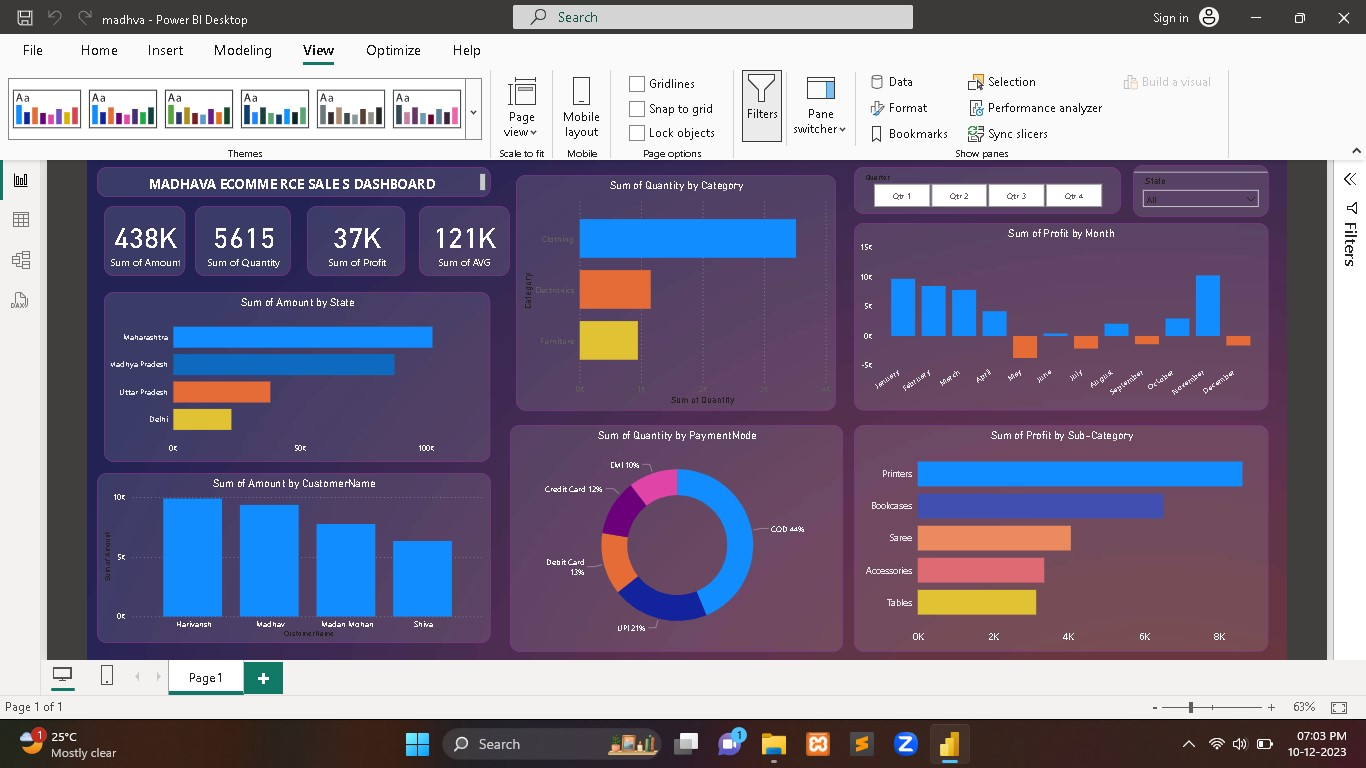

The page's visual inventory and layout, read from the dashboard file:
{"tool":"powerbi","page":{"name":"Page 1","canvas":[2047,800],"ordinal":0},"visuals":[{"type":"textbox","box":[80,11.7,630,48.3],"z":0},{"type":"columnChart","fields":{"Category":["Orders.Order Date.Variation.Date Hierarchy.Month"],"Y":["Details.Profit"]},"box":[1291.7,100,663.3,300],"z":1000},{"type":"barChart","fields":{"Category":["Details.Sub-Category"],"Y":["Details.Profit"]},"box":[1291.7,423.3,663.3,363.3],"z":2000},{"type":"clusteredBarChart","fields":{"Category":["Details.Category"],"Y":["Details.Quantity"]},"box":[750,23.3,511.7,376.7],"z":3000},{"type":"donutChart","fields":{"Category":["Details.PaymentMode"],"Y":["Details.Quantity"]},"box":[740,423.3,533.3,363.3],"z":4000},{"type":"card","fields":{"Values":["Details.Amount"]},"box":[91.7,73.3,130,111.7],"z":5000},{"type":"card","fields":{"Values":["Details.Quantity"]},"box":[236.7,73.3,153.3,111.7],"z":6000},{"type":"card","fields":{"Values":["Details.Profit"]},"box":[416.7,73.3,156.7,111.7],"z":7000},{"type":"card","fields":{"Values":["Details.AVG"]},"box":[595,73.3,145,111.7],"z":8000},{"type":"barChart","fields":{"Y":["Details.Amount"],"Category":["Orders.State"]},"box":[91.7,211.7,618.3,271.7],"z":9000},{"type":"columnChart","fields":{"Category":["Orders.CustomerName"],"Y":["Details.Amount"]},"box":[80,500,630,271.7],"z":10000},{"type":"slicer","fields":{"Values":["Orders.Order Date.Variation.Date Hierarchy.Quarter"]},"box":[1291.7,11.7,426.7,75],"z":11000},{"type":"slicer","fields":{"Values":["Orders.State"]},"box":[1738.3,8.3,216.7,83.3],"z":12000}]}

Visuals, with their boxes on the page's 2047x800 design canvas (x1, y1, x2, y2). These are canvas units, not pixel positions in the 1366x768 screenshot, which may show the page scaled, cropped or inside an application window:
textbox: {"x1": 80, "y1": 12, "x2": 710, "y2": 60}
columnChart - Orders.Order Date.Variation.Date Hierarchy.Month x Details.Profit: {"x1": 1292, "y1": 100, "x2": 1955, "y2": 400}
barChart - Details.Sub-Category x Details.Profit: {"x1": 1292, "y1": 423, "x2": 1955, "y2": 787}
clusteredBarChart - Details.Category x Details.Quantity: {"x1": 750, "y1": 23, "x2": 1262, "y2": 400}
donutChart - Details.PaymentMode x Details.Quantity: {"x1": 740, "y1": 423, "x2": 1273, "y2": 787}
card - Details.Amount: {"x1": 92, "y1": 73, "x2": 222, "y2": 185}
card - Details.Quantity: {"x1": 237, "y1": 73, "x2": 390, "y2": 185}
card - Details.Profit: {"x1": 417, "y1": 73, "x2": 573, "y2": 185}
card - Details.AVG: {"x1": 595, "y1": 73, "x2": 740, "y2": 185}
barChart - Details.Amount x Orders.State: {"x1": 92, "y1": 212, "x2": 710, "y2": 483}
columnChart - Orders.CustomerName x Details.Amount: {"x1": 80, "y1": 500, "x2": 710, "y2": 772}
slicer - Orders.Order Date.Variation.Date Hierarchy.Quarter: {"x1": 1292, "y1": 12, "x2": 1718, "y2": 87}
slicer - Orders.State: {"x1": 1738, "y1": 8, "x2": 1955, "y2": 92}
